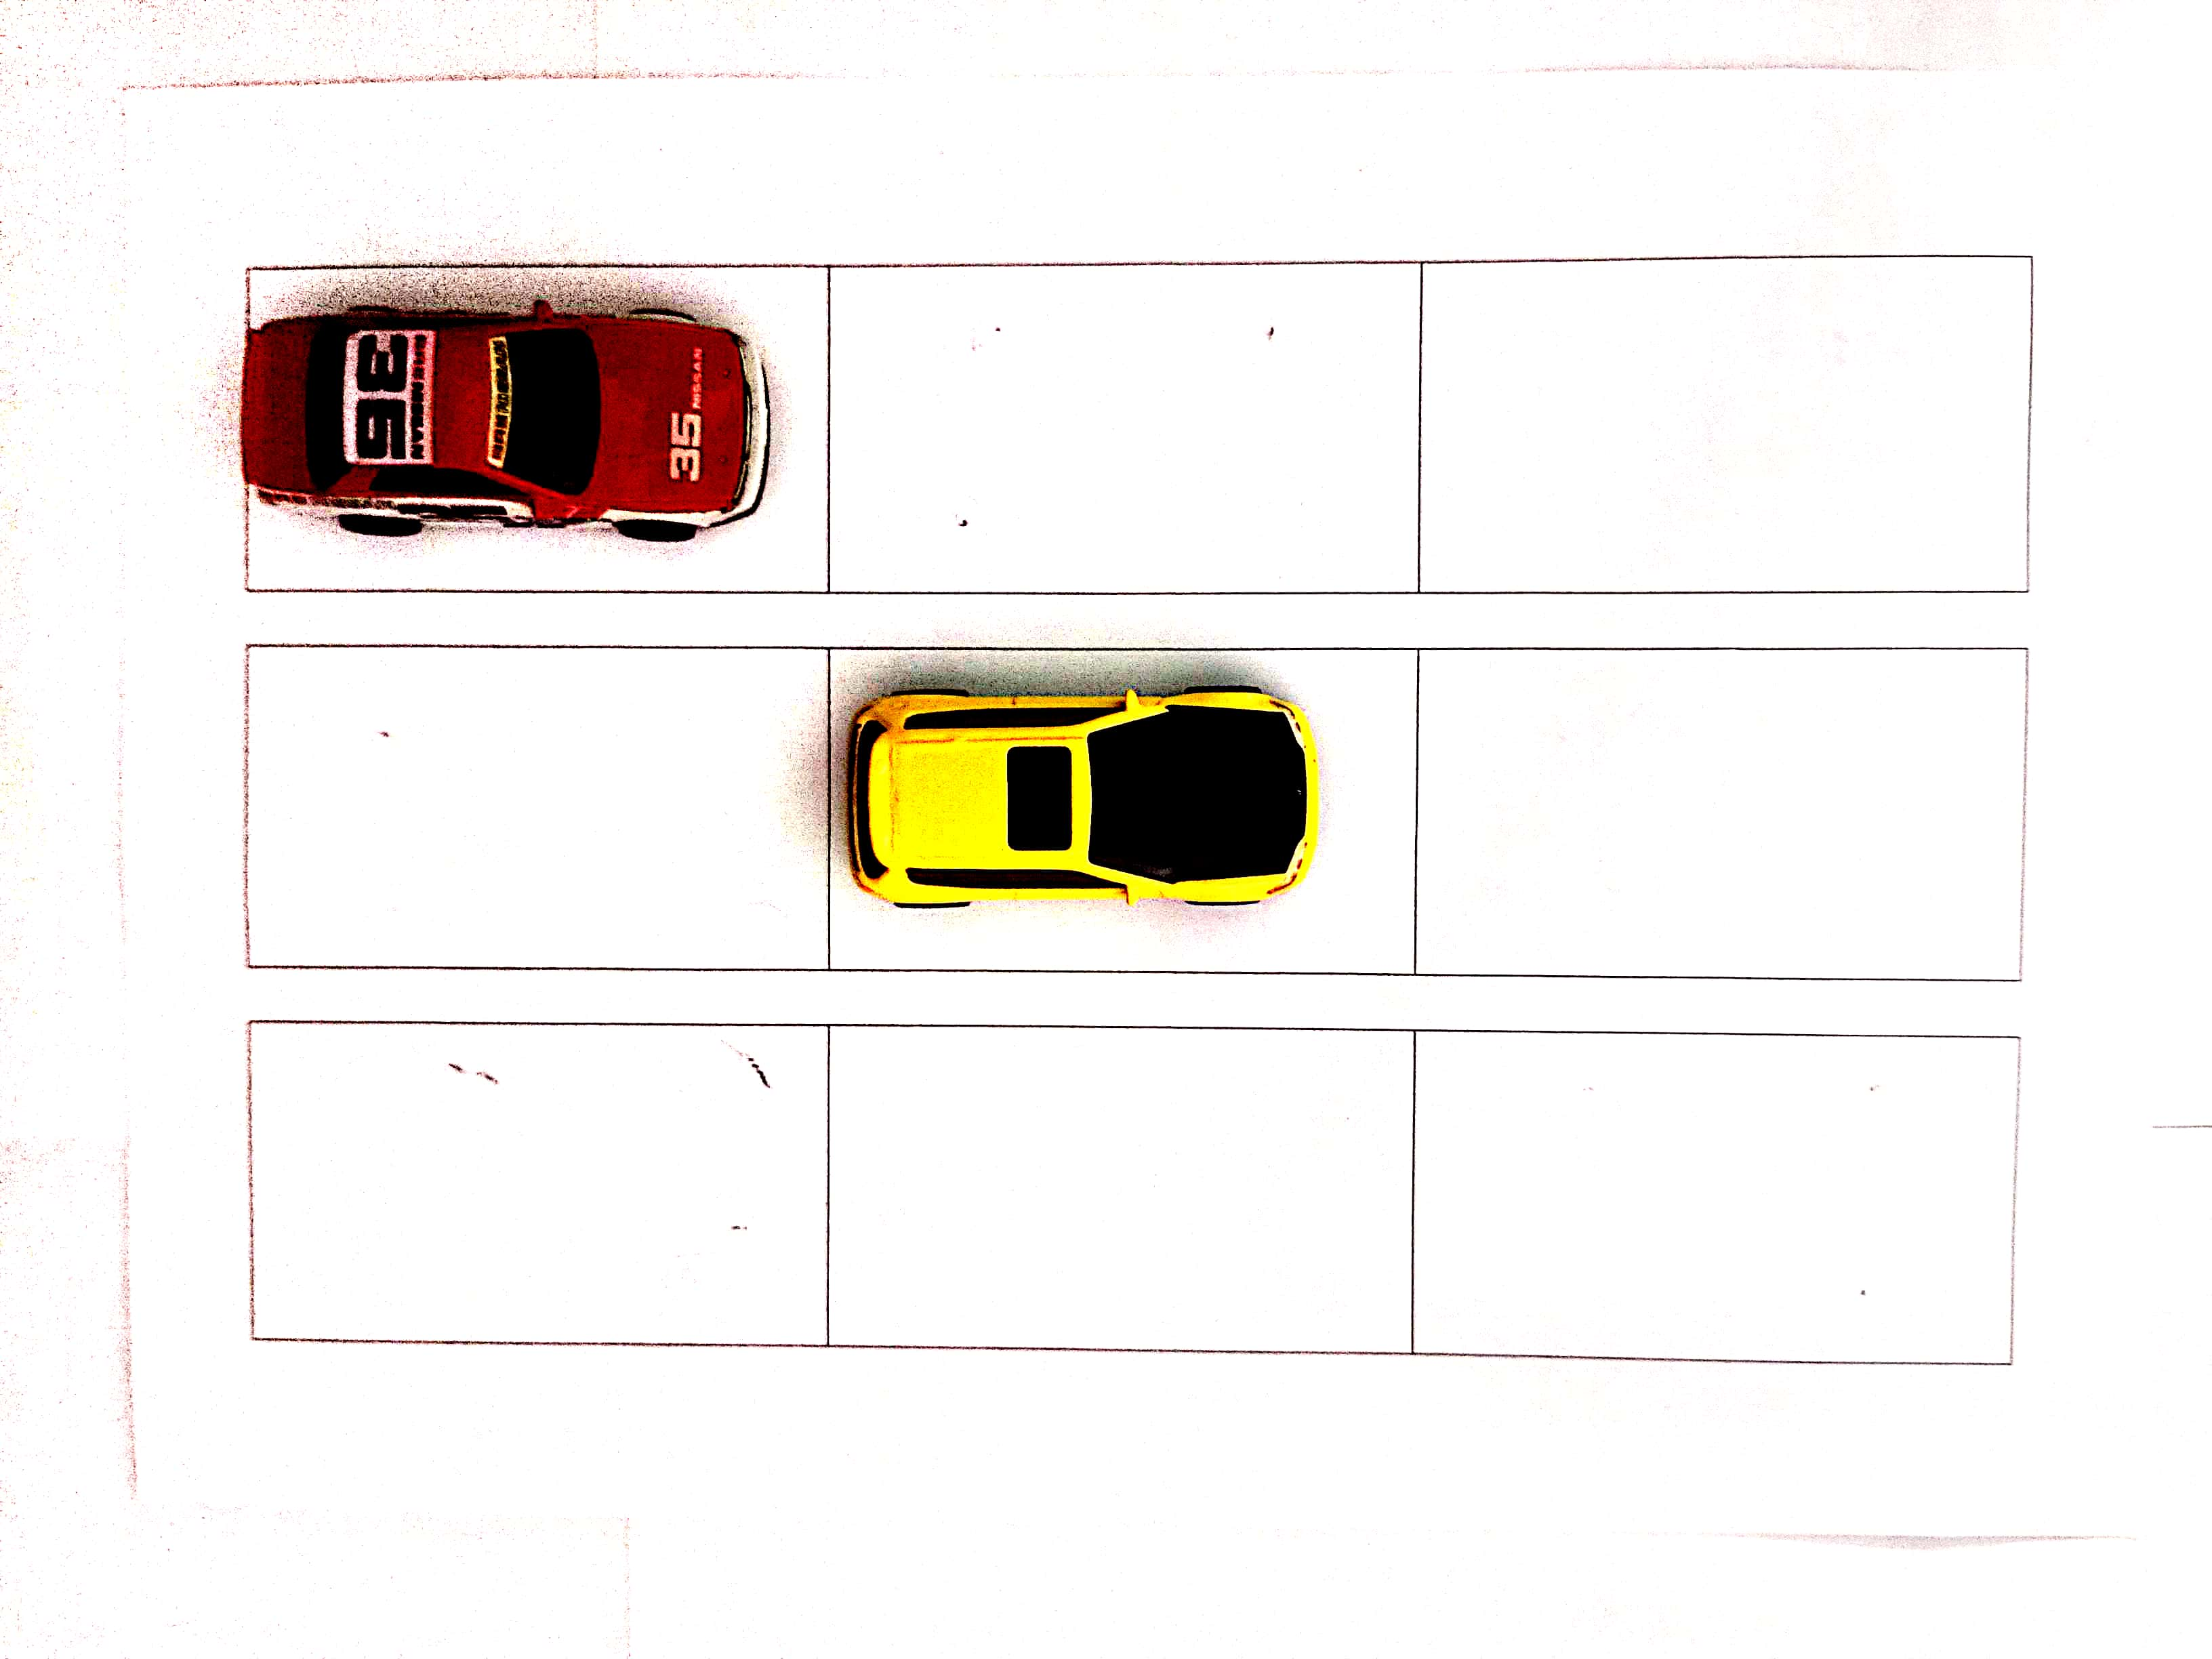Busy: (253, 272, 829, 594), (834, 653, 1413, 965)
Free: (1407, 1030, 2013, 1361), (1421, 260, 2031, 586), (1418, 648, 2019, 972), (244, 1019, 824, 1347), (247, 648, 834, 962), (833, 1028, 1413, 1345), (834, 272, 1421, 577)
